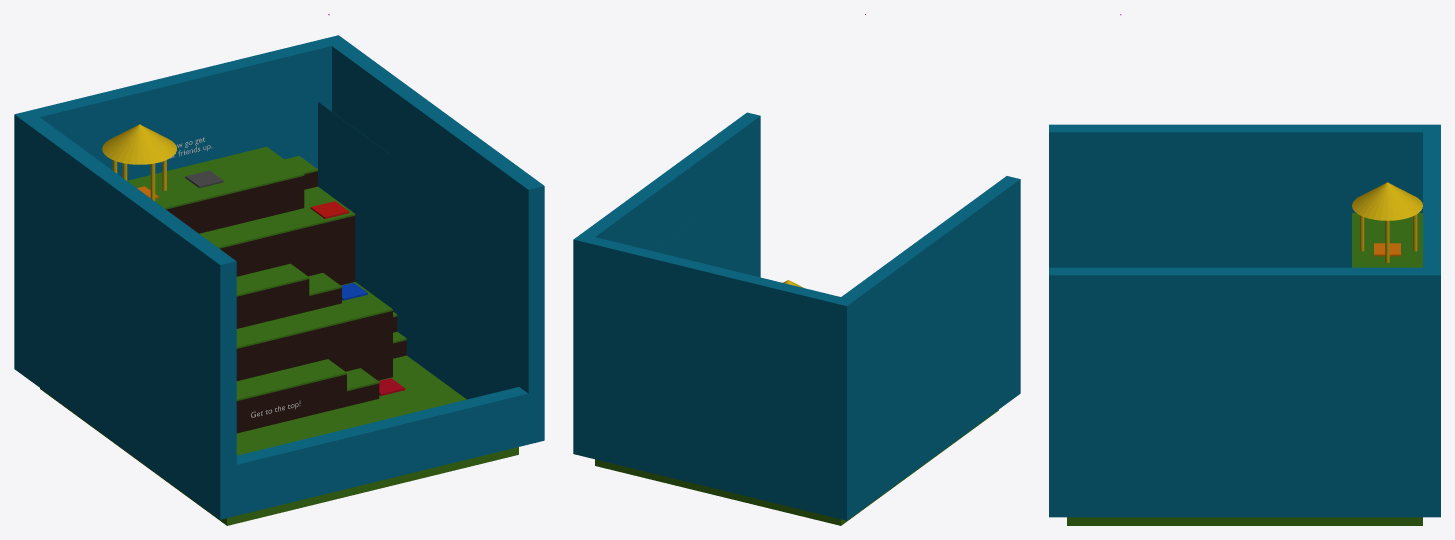
Rendered from world.obj.
The picture shows the model from 3 angles, left to right: view 1: azimuth 30°, elevation 25°; view 2: azimuth 150°, elevation 25°; view 3: azimuth 270°, elevation 25°; orthographic projection. The views are drawn at different scales.
Visible parts, largest first — view 1: Boundary.002_Cube.005, Boundary.003_Cube.004, Boundary.004_Cube.003, Boundary.001_Cube.000, Floor.006_Cube.014, Boundary.1000_Cube.055, Floor.000_Cube.001, Floor.005_Cube.013, Floor.015_Cube.031, Floor.004_Cube.012, Floor.014_Cube.030, Boundary.1001_Cube.056 (+8 smaller); view 2: Boundary.004_Cube.003, Boundary.002_Cube.005, Boundary.003_Cube.004, Floor.006_Cube.014, Boundary.1000_Cube.055; view 3: Boundary.003_Cube.004, Boundary.002_Cube.005, Floor.006_Cube.014, Floor.000_Cube.001, Boundary.004_Cube.003, Wall.104.Cone.ExitIndicator_Cone.
Boxes of the visible parts, left/top/right/bottom form: Boundary.002_Cube.005: left=14, top=110, right=236, bottom=519; Boundary.003_Cube.004: left=323, top=35, right=544, bottom=444; Boundary.004_Cube.003: left=31, top=39, right=331, bottom=180; Boundary.001_Cube.000: left=236, top=387, right=528, bottom=515; Floor.006_Cube.014: left=40, top=355, right=518, bottom=525; Boundary.1000_Cube.055: left=355, top=129, right=392, bottom=308; Floor.000_Cube.001: left=127, top=146, right=304, bottom=209; Floor.005_Cube.013: left=236, top=319, right=360, bottom=380; Floor.015_Cube.031: left=166, top=176, right=304, bottom=233; Floor.004_Cube.012: left=236, top=374, right=346, bottom=433; Floor.014_Cube.030: left=220, top=223, right=322, bottom=276; Boundary.1001_Cube.056: left=318, top=102, right=355, bottom=213; Boundary.004_Cube.003: left=587, top=237, right=840, bottom=517; Boundary.002_Cube.005: left=833, top=176, right=1020, bottom=520; Boundary.003_Cube.004: left=573, top=112, right=760, bottom=457; Floor.006_Cube.014: left=595, top=409, right=998, bottom=525; Boundary.1000_Cube.055: left=670, top=215, right=701, bottom=262; Boundary.003_Cube.004: left=1049, top=267, right=1440, bottom=517; Boundary.002_Cube.005: left=1049, top=124, right=1440, bottom=267; Floor.006_Cube.014: left=1067, top=517, right=1422, bottom=525; Floor.000_Cube.001: left=1352, top=213, right=1422, bottom=267; Boundary.004_Cube.003: left=1423, top=132, right=1440, bottom=267; Wall.104.Cone.ExitIndicator_Cone: left=1352, top=182, right=1422, bottom=220.
Size of what is drawn, in the model's own units: 20 by 27.05 by 22.
